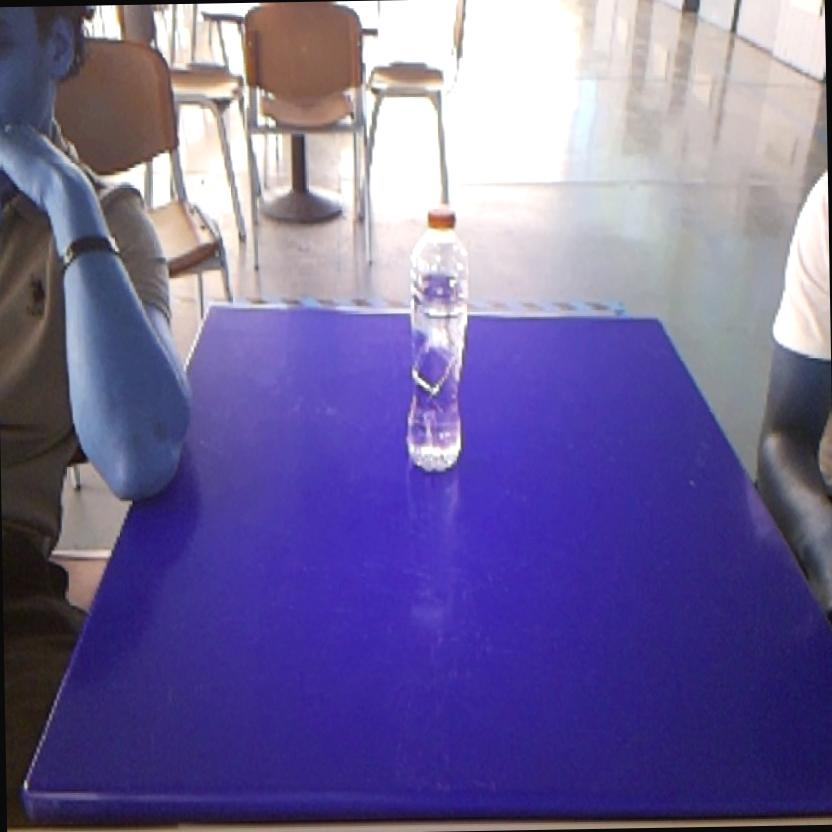no_label: (396, 189, 480, 477)
